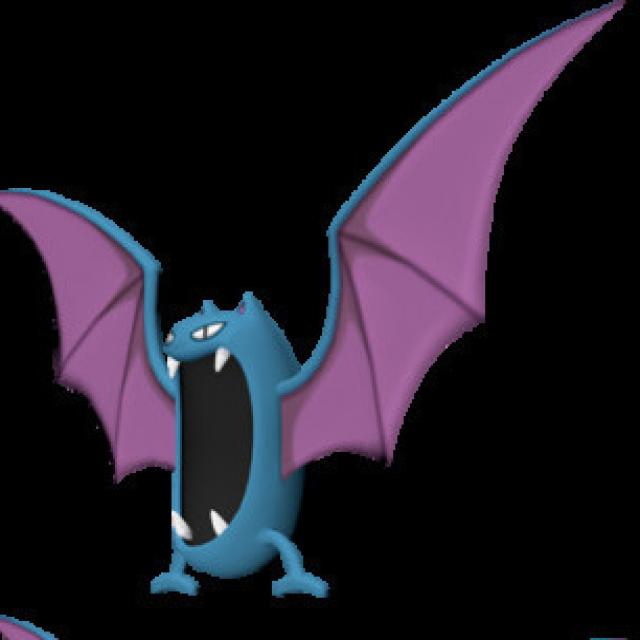Golbat: (61, 201, 400, 605)
